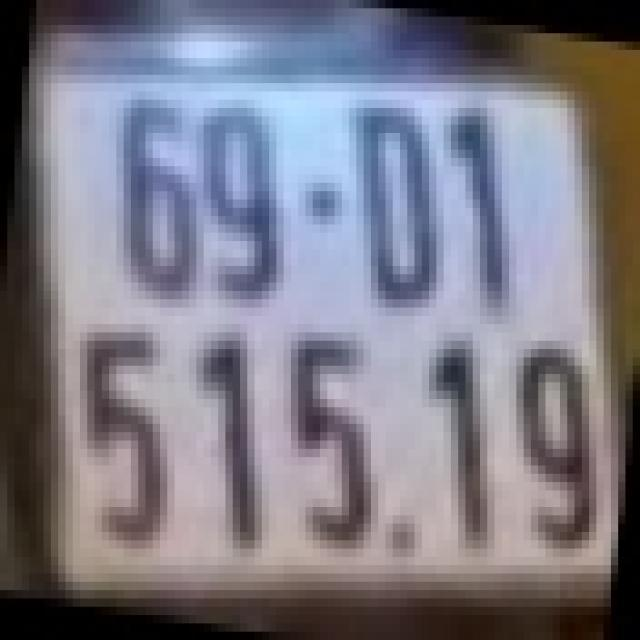1: (196, 332, 262, 548), (430, 341, 494, 548), (451, 108, 516, 308)
5: (80, 332, 168, 548), (291, 341, 371, 548)
6: (124, 100, 196, 300)
9: (516, 349, 596, 549), (204, 108, 284, 299)
D: (356, 108, 436, 308)
